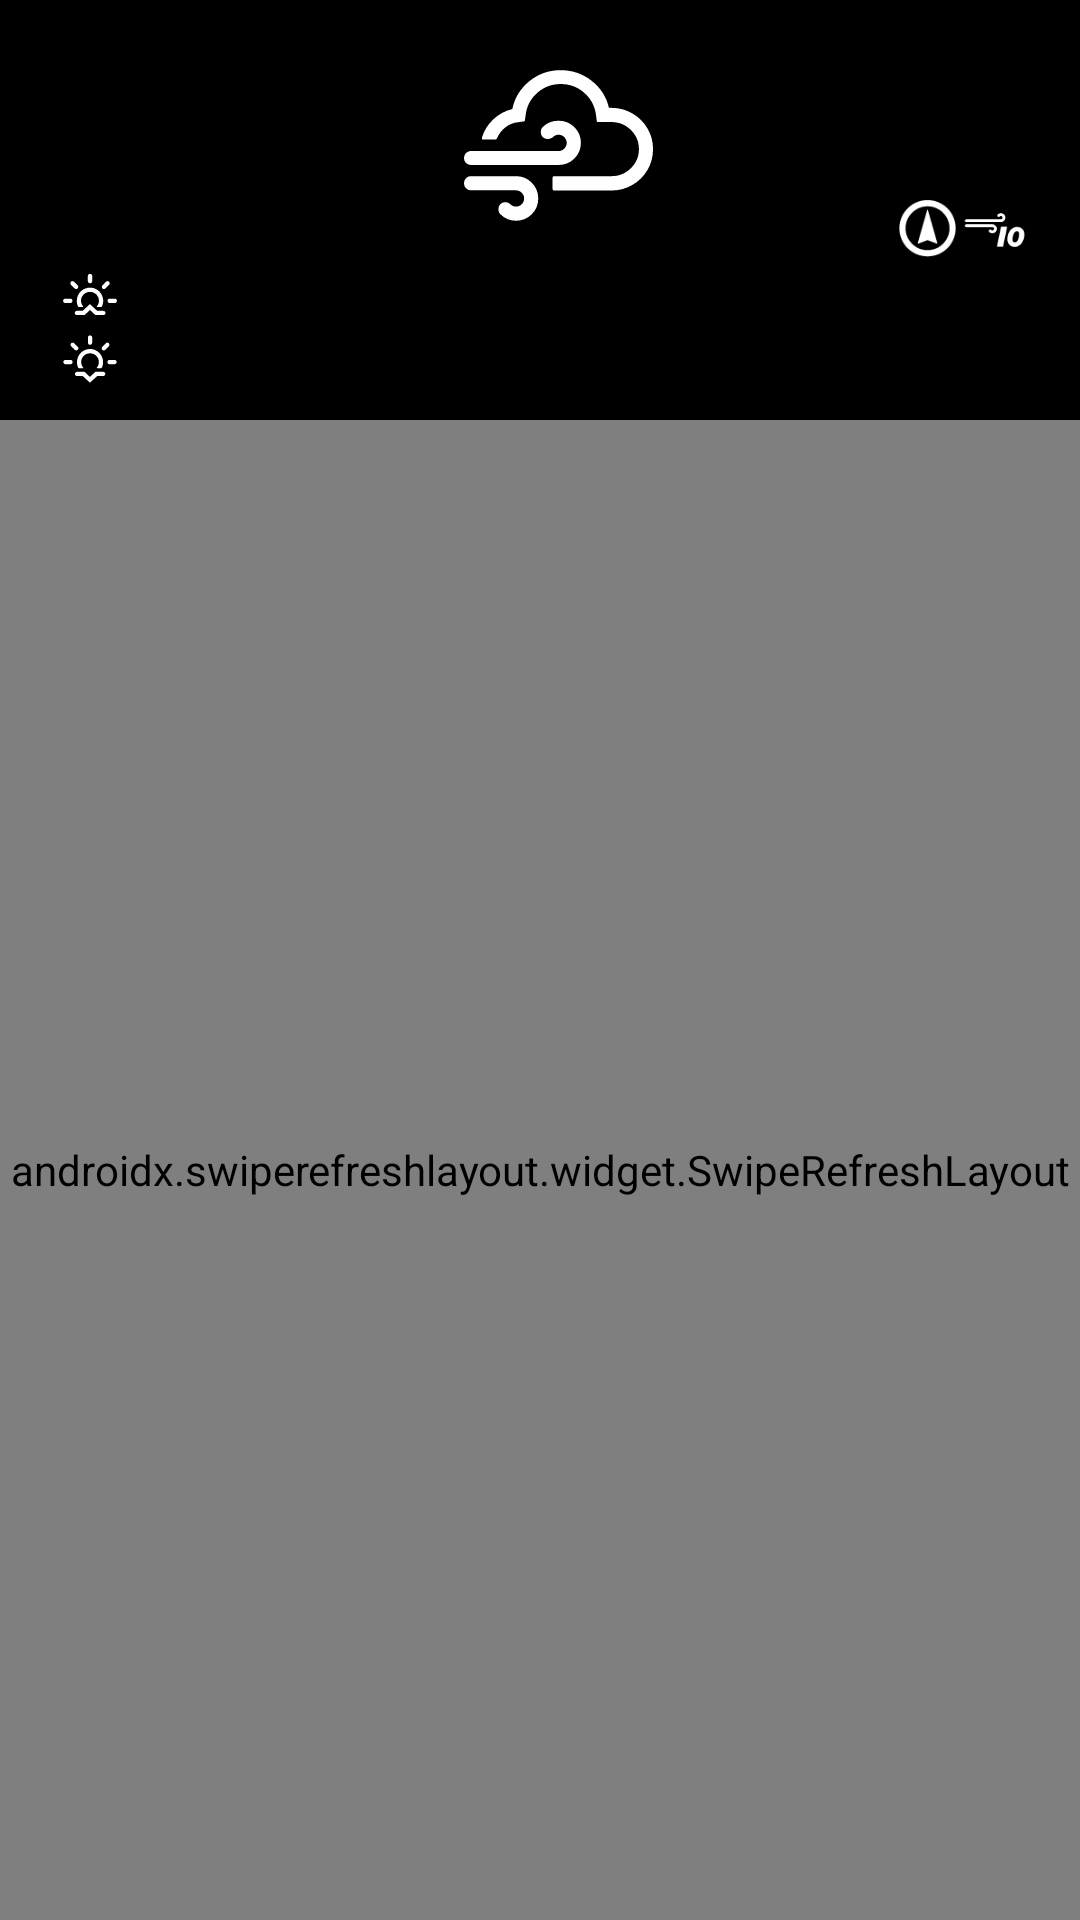

Screen size 1080px×1920px. Icon name, then its box in pixels as bbox(x1, y1, x2, y2):
wi sunrise: bbox(63, 274, 117, 315)
wi sunset: bbox(63, 335, 117, 383)
wi wind beaufort: bbox(964, 213, 1025, 247)
wi wind deg: bbox(899, 200, 956, 257)
